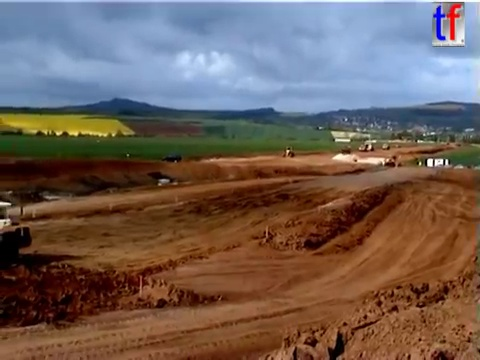crane: (399, 134, 415, 144)
excavator: (387, 151, 419, 168)
truck: (1, 199, 34, 265), (281, 144, 296, 159), (340, 143, 352, 155), (381, 141, 391, 151), (358, 142, 367, 152), (366, 142, 375, 152), (394, 142, 401, 148)
worker: (416, 159, 424, 168), (381, 158, 387, 169)
